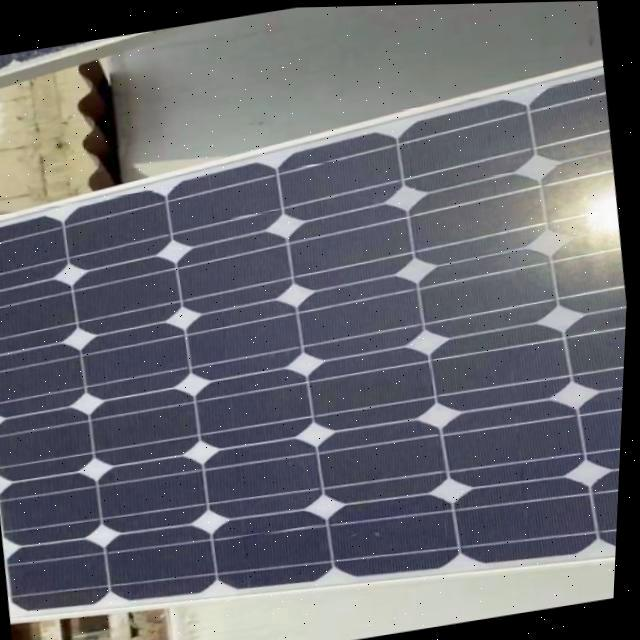Normal Solar Panel: (0, 58, 638, 640)
